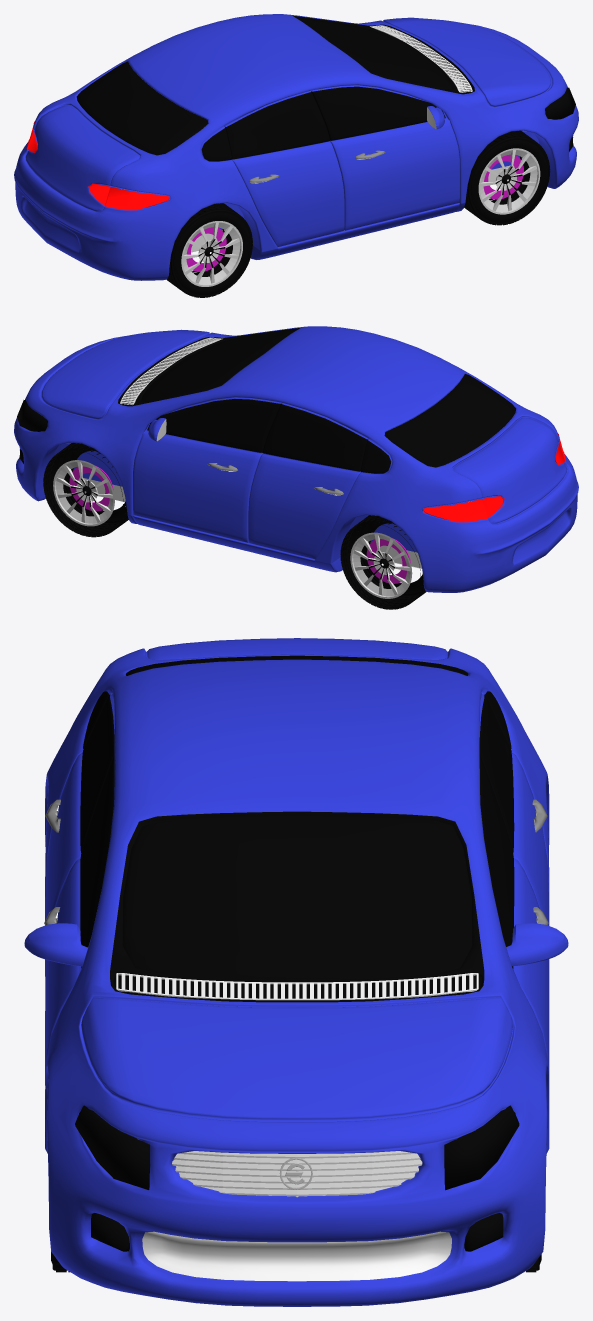
The picture shows the model from 3 angles, top to bottom: view 1: azimuth 30°, elevation 25°; view 2: azimuth 150°, elevation 25°; view 3: azimuth 270°, elevation 25°; orthographic projection. The views are drawn at different scales.
Visible parts, largest first — view 1: Car, Right_Front_Door, Right_Back_Door, Wheel_Front_R, Wheel_Back_R, Right_Turn_Light, Grid_Over, HeadLights_Up; view 2: Car, Left_Front_Door, Left_Back_Door, Wheel_Front_L, Wheel_Back_L, Left_Turn_Light, Grid_Over, HeadLights_Up; view 3: Car, Grid_Front, HeadLights_Up, Left_Front_Door, Right_Front_Door, Left_Back_Door, Right_Back_Door, Grid_Over, HeadLights_Down, Mirror_R, Mirror_L.
Boxes of the visible parts, x1=… form: Car: x1=14, y1=14, x2=578, y2=280; Right_Front_Door: x1=311, y1=85, x2=459, y2=230; Right_Back_Door: x1=224, y1=90, x2=344, y2=246; Wheel_Front_R: x1=464, y1=130, x2=550, y2=225; Wheel_Back_R: x1=167, y1=203, x2=252, y2=297; Right_Turn_Light: x1=88, y1=183, x2=169, y2=210; Grid_Over: x1=370, y1=25, x2=472, y2=92; HeadLights_Up: x1=545, y1=87, x2=575, y2=119; Car: x1=14, y1=326, x2=578, y2=592; Left_Front_Door: x1=133, y1=397, x2=281, y2=542; Left_Back_Door: x1=248, y1=403, x2=368, y2=559; Wheel_Front_L: x1=43, y1=443, x2=128, y2=537; Wheel_Back_L: x1=340, y1=515, x2=425, y2=609; Left_Turn_Light: x1=423, y1=495, x2=504, y2=522; Grid_Over: x1=120, y1=337, x2=222, y2=405; HeadLights_Up: x1=17, y1=400, x2=47, y2=431; Car: x1=45, y1=638, x2=549, y2=1306; Grid_Front: x1=172, y1=1151, x2=422, y2=1197; HeadLights_Up: x1=75, y1=1105, x2=519, y2=1190; Left_Front_Door: x1=479, y1=756, x2=549, y2=1083; Right_Front_Door: x1=45, y1=756, x2=114, y2=1085; Left_Back_Door: x1=479, y1=694, x2=549, y2=981; Right_Back_Door: x1=45, y1=694, x2=114, y2=976; Grid_Over: x1=116, y1=973, x2=478, y2=1000; HeadLights_Down: x1=91, y1=1213, x2=503, y2=1251; Mirror_R: x1=24, y1=923, x2=87, y2=966; Mirror_L: x1=506, y1=923, x2=568, y2=966.
Size of the model in its own units: 4.92 by 1.64 by 2.28.
